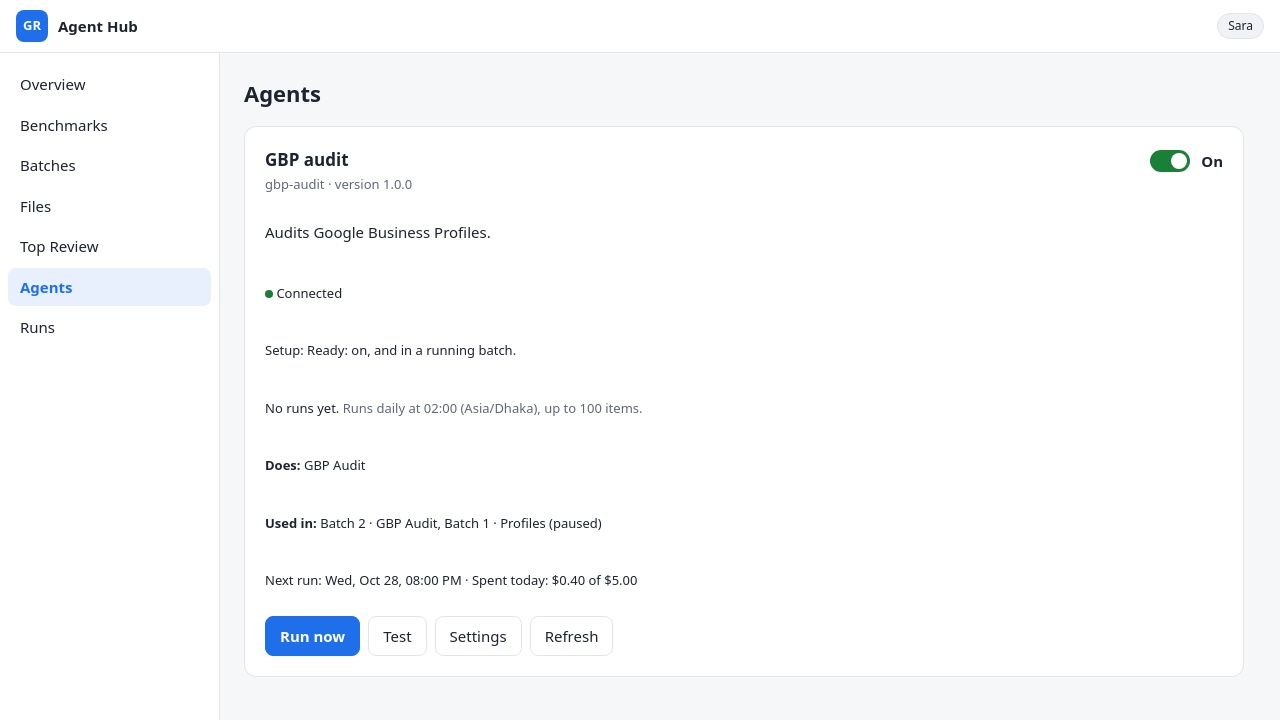
the settings form is built from the manifest and sends typed values
The width and height of the screenshot is (1280, 720).
Expected: the element showing "Does: GBP Audit" is shown, [265,456,366,474]
Expected: the element showing "Used in: Batch 2 · GBP Audit, Batch 1 · Profiles (paused)" is shown, [265,514,602,532]
Click the button "Settings" at [478, 636], box [435,616,522,656]
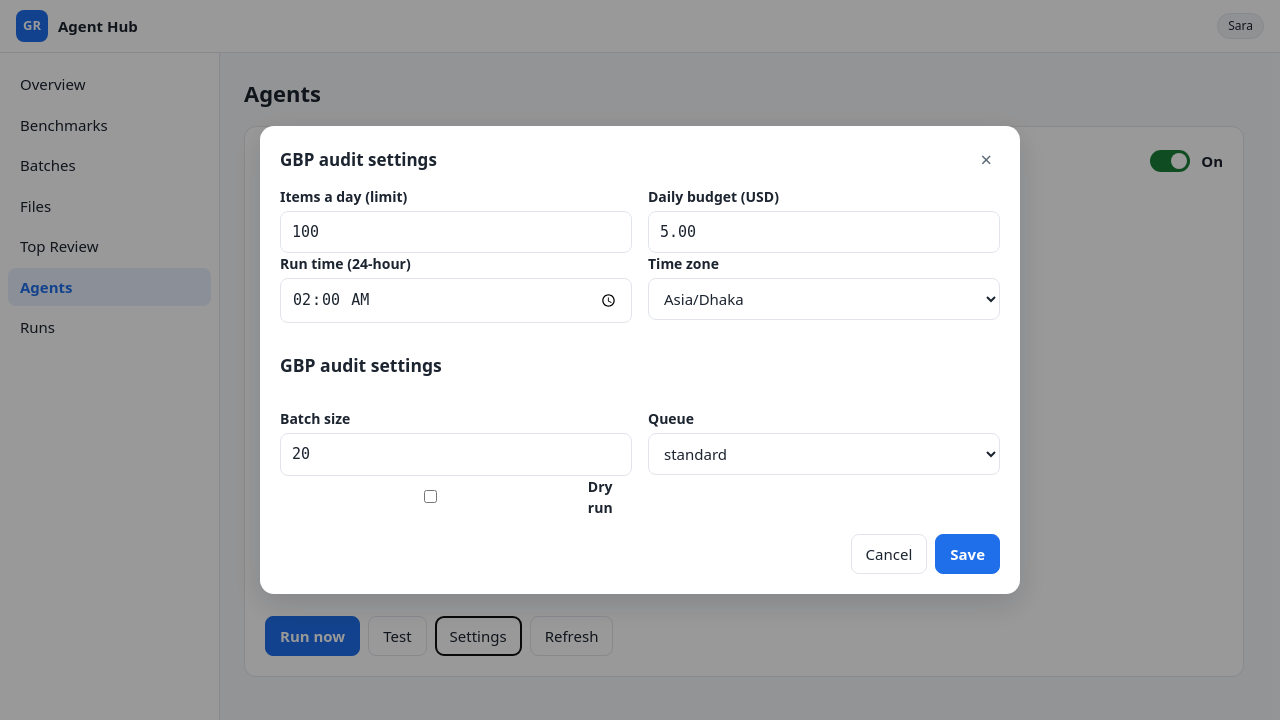
Replace the text in the number field labelled "Batch size" with "50" at [456, 454], box [280,433,632,476]
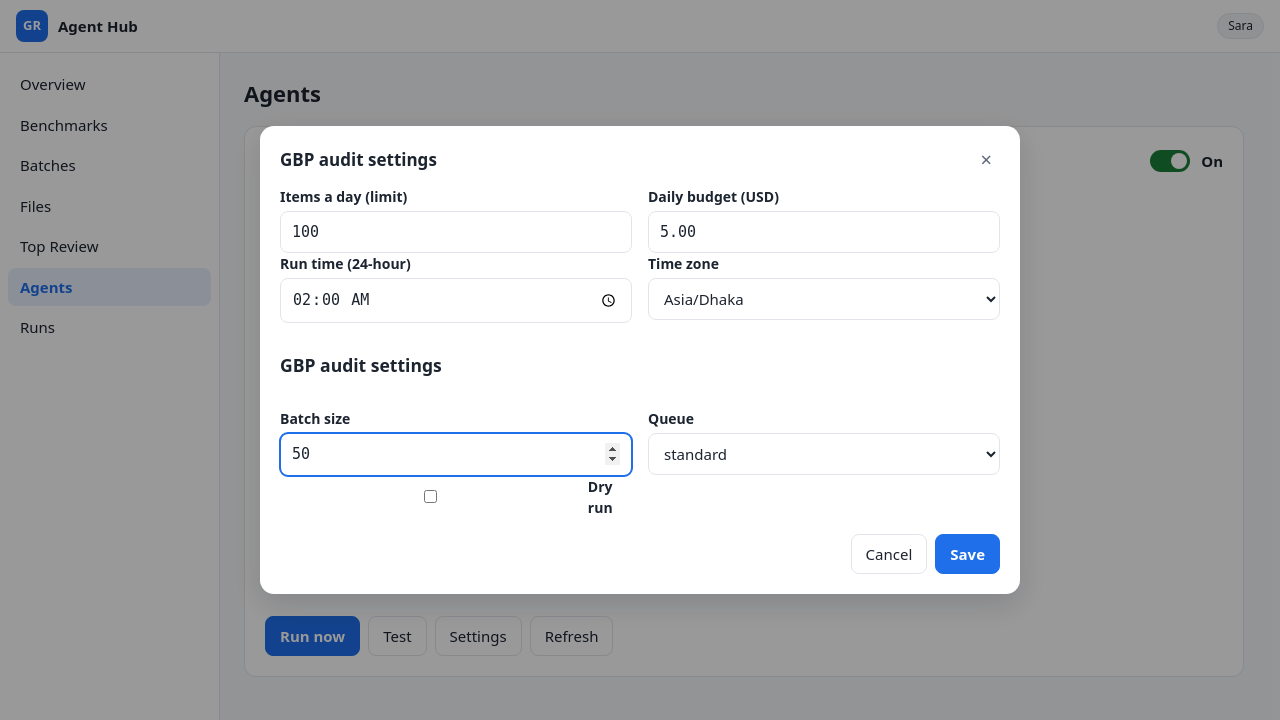
Select "priority" in the dropdown labelled "Queue" at [824, 454], box [648,433,1000,475]
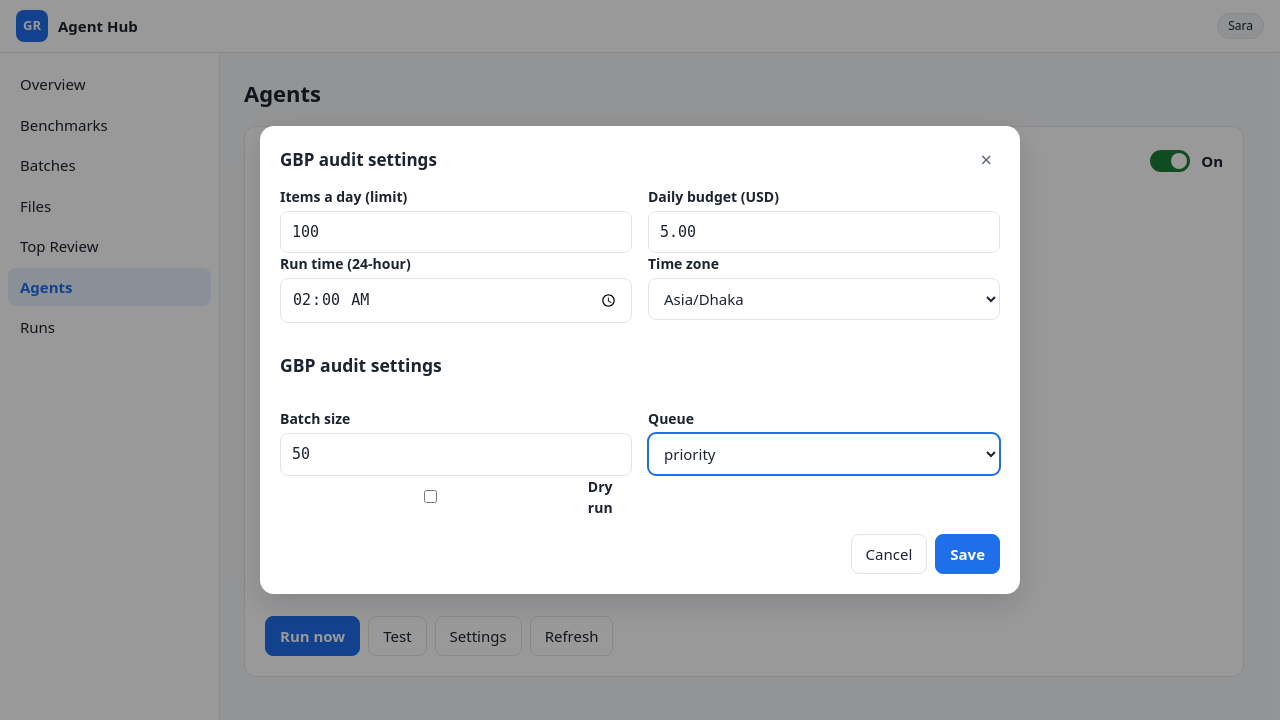
Click the checkbox labelled "Dry run" at [430, 497], box [284,490,577,503]
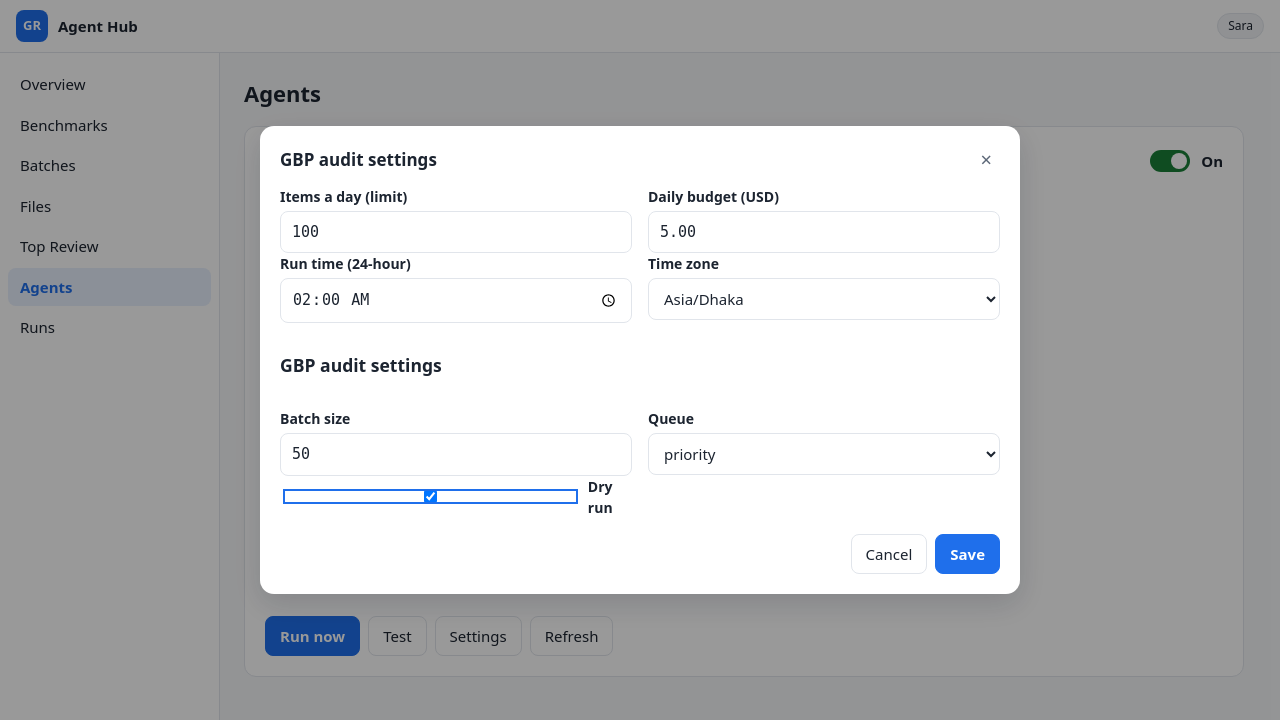
Click the button "Save" at [968, 554], box [935,534,1000,574]
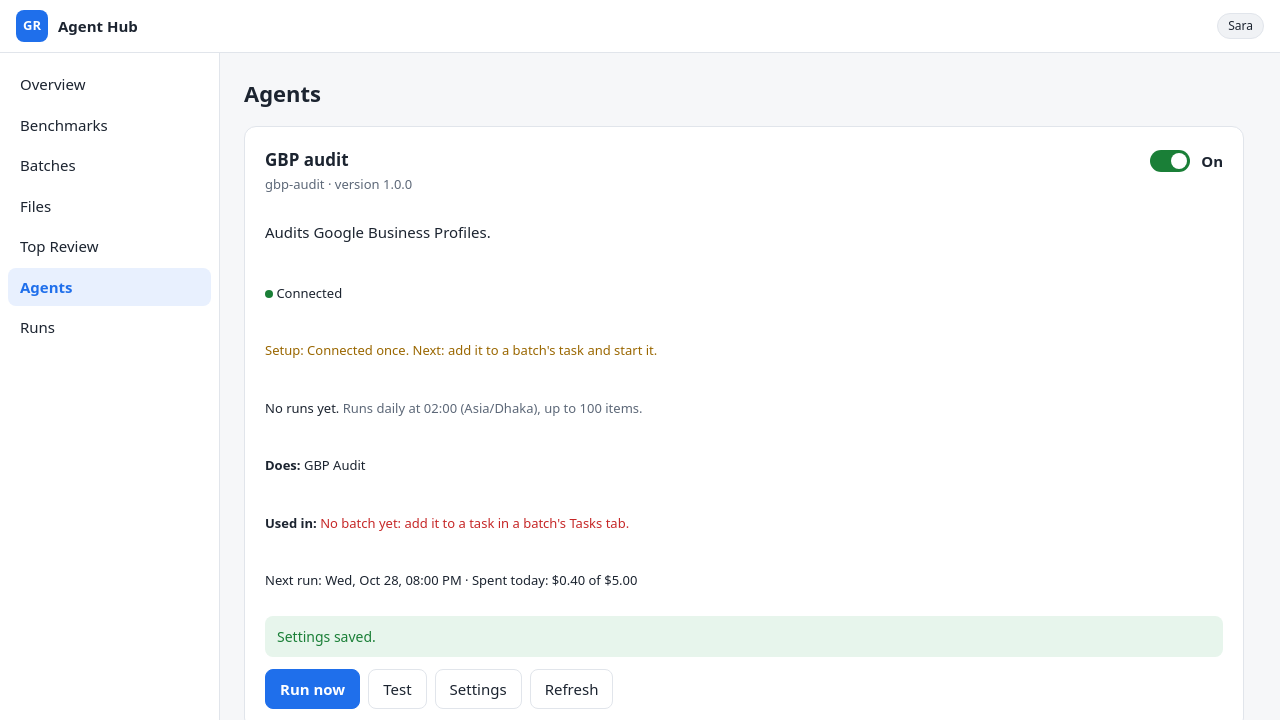
Expected: the text "Settings saved." is shown, [265,616,1223,656]
